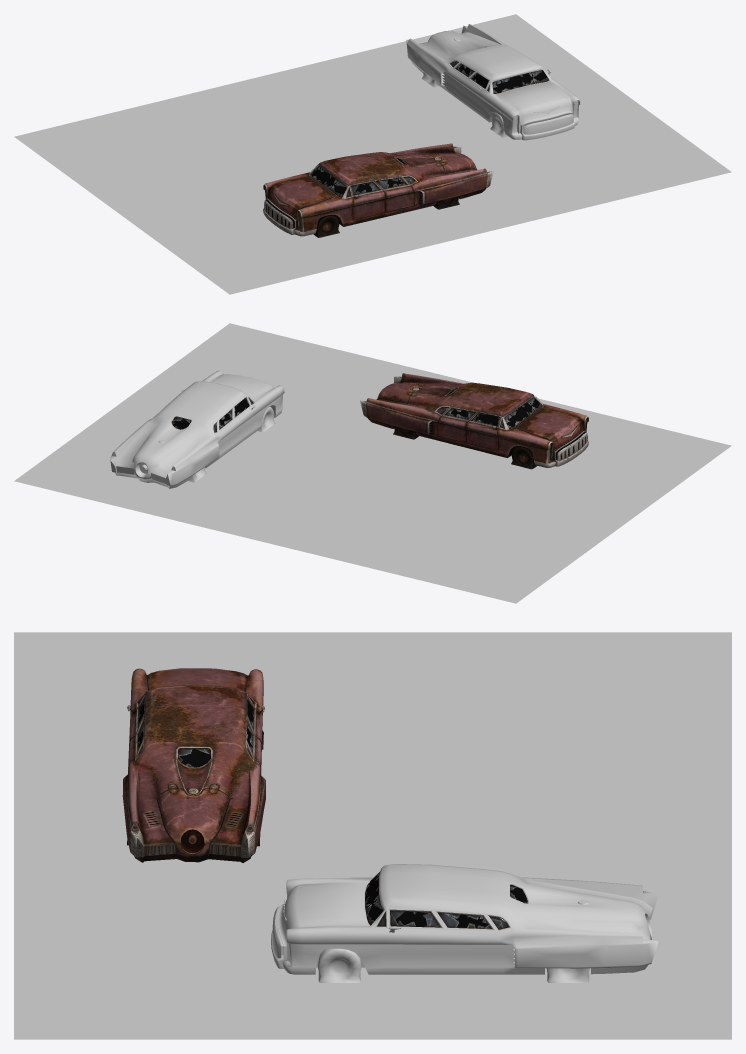
The model's file is corvega.FBX.
3 renders of one model, top to bottom at view 1: azimuth 30°, elevation 25°; view 2: azimuth 150°, elevation 25°; view 3: azimuth 270°, elevation 25°, orthographic. The views are drawn at different scales.
Parts seen in each view (by area): view 1: Plane001, Object003, Object001, Object004, Object002; view 2: Plane001, Object003, Object001, Object004, Object002; view 3: Plane001, Object001, Object003, Object002, Object004.
Part boxes in pixels (x1,y1,x2,y2): Plane001: (14, 14, 731, 294); Object003: (263, 143, 493, 237); Object001: (406, 24, 580, 140); Object004: (310, 158, 415, 197); Object002: (450, 61, 549, 93); Plane001: (14, 323, 731, 603); Object003: (360, 373, 588, 469); Object001: (110, 370, 284, 488); Object004: (436, 388, 542, 428); Object002: (171, 397, 253, 432); Plane001: (14, 632, 731, 1039); Object001: (271, 864, 658, 982); Object003: (122, 668, 265, 862); Object002: (365, 872, 527, 929); Object004: (137, 698, 254, 767).
Size of the model in its own units: 861 by 74.89 by 641.
